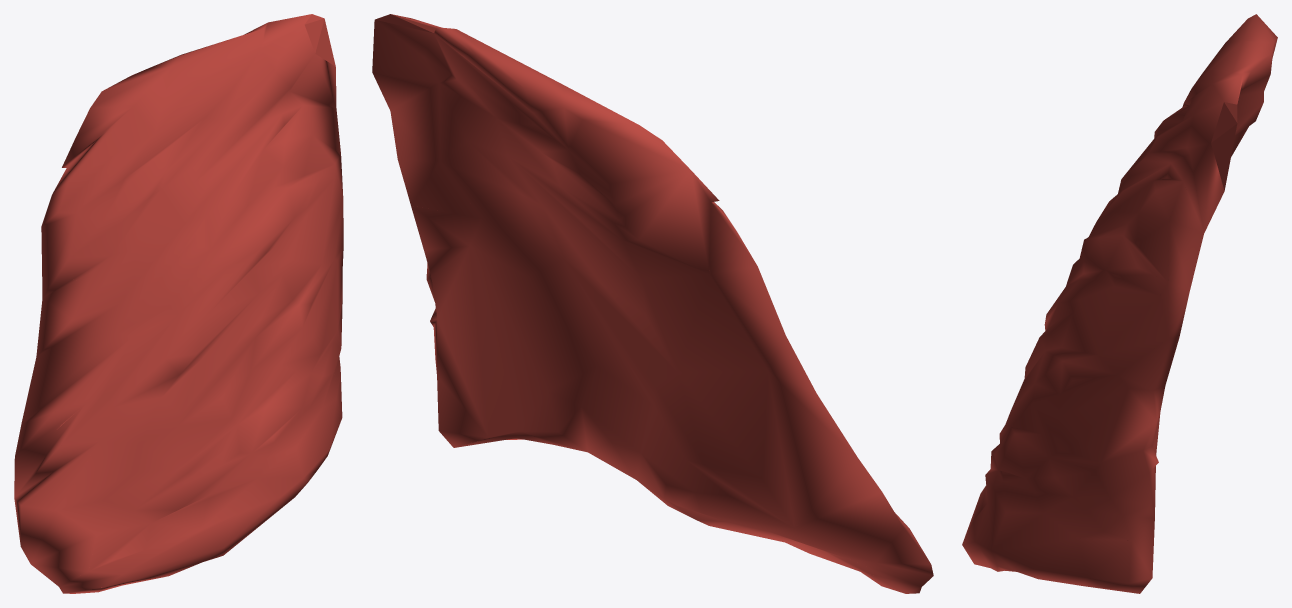
The model's file is musculos-pronator-quadratus-r.glb.
3 views of the same model, side by side, from view 1: azimuth 30°, elevation 25°; view 2: azimuth 150°, elevation 25°; view 3: azimuth 270°, elevation 25° (orthographic). The views are drawn at different scales.
Visible parts, largest first — view 1: Pronator quadratus.r; view 2: Pronator quadratus.r; view 3: Pronator quadratus.r.
Part boxes in pixels (x1,y1,x2,y2): Pronator quadratus.r: (14, 14, 343, 593); Pronator quadratus.r: (372, 14, 933, 593); Pronator quadratus.r: (962, 14, 1277, 593).
Size of the model in its own units: 0.0466 by 0.0521 by 0.0247.
